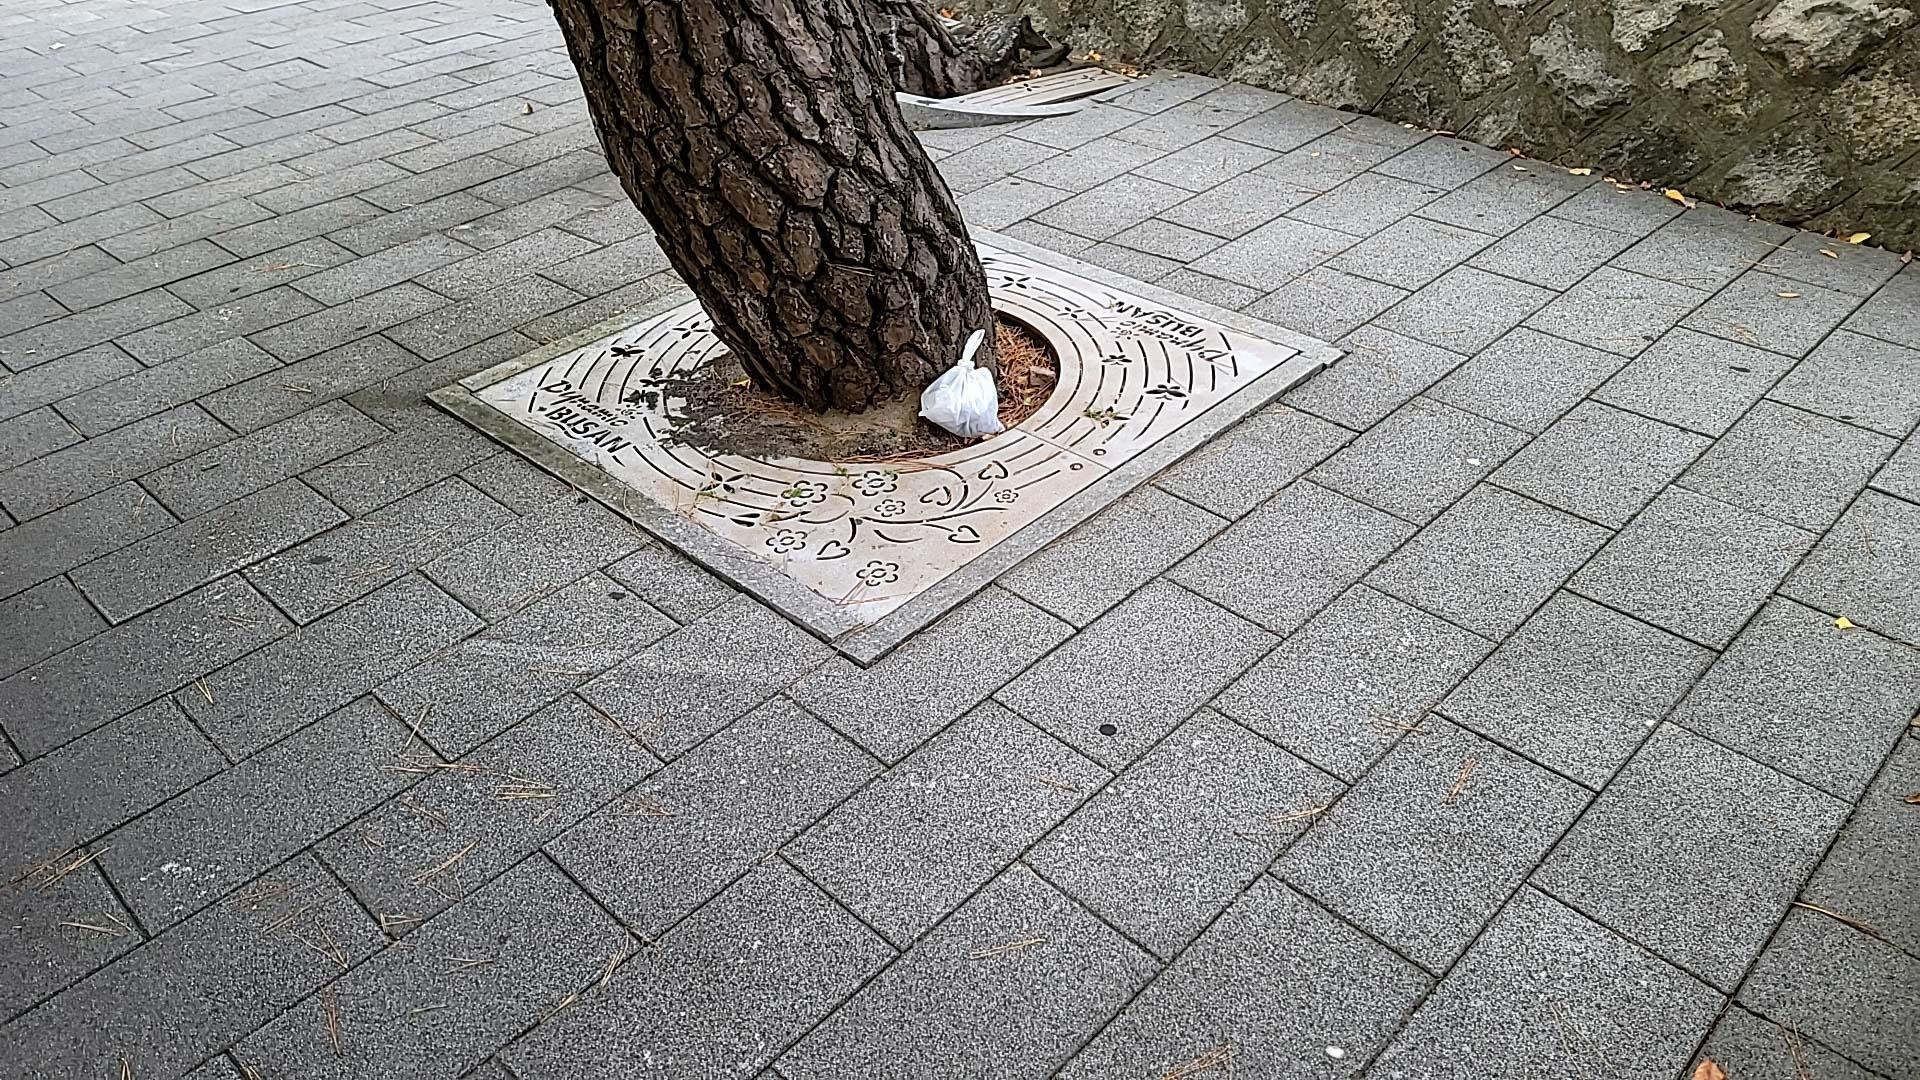white_bag: (909, 324, 1011, 440)
